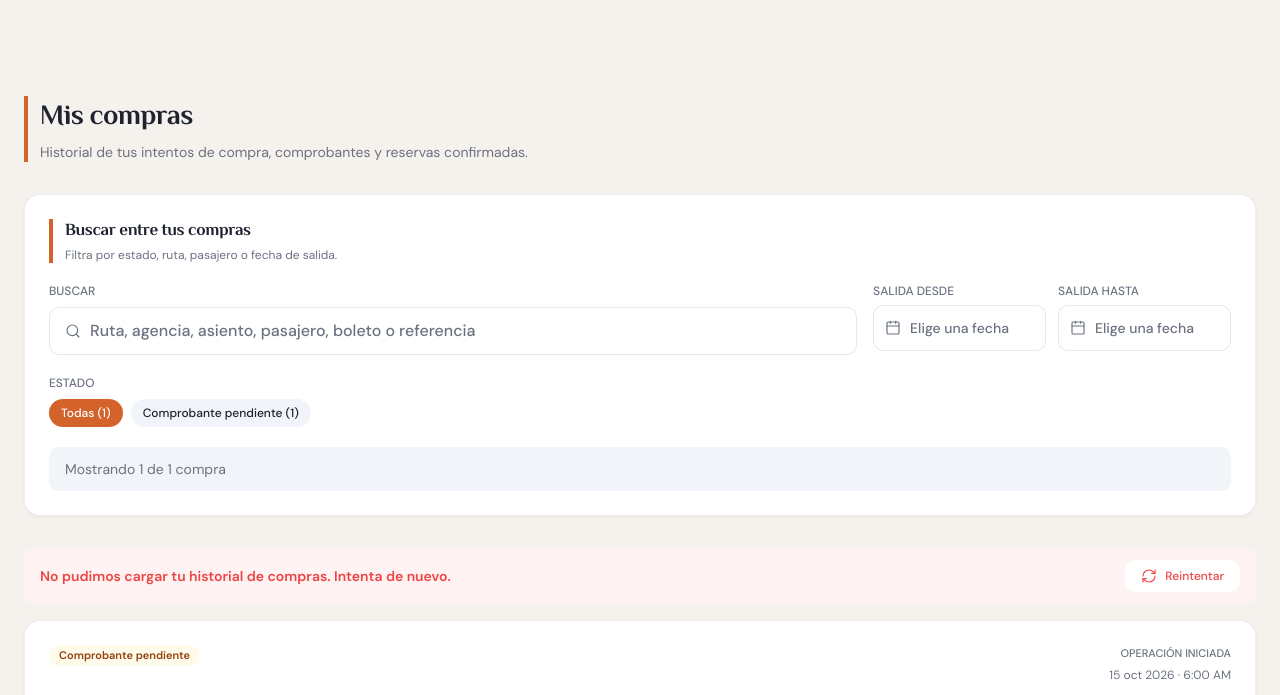
MisComprasPage (RT-02) › un error no-401 en una página posterior conserva lo traído y permite reintentar
Expected: the message shows "No pudimos cargar tu historial de compras. Intenta de nuevo.", [40,567,451,585]
Click the button "Reintentar" at (1183, 576), box [1125,560,1240,592]
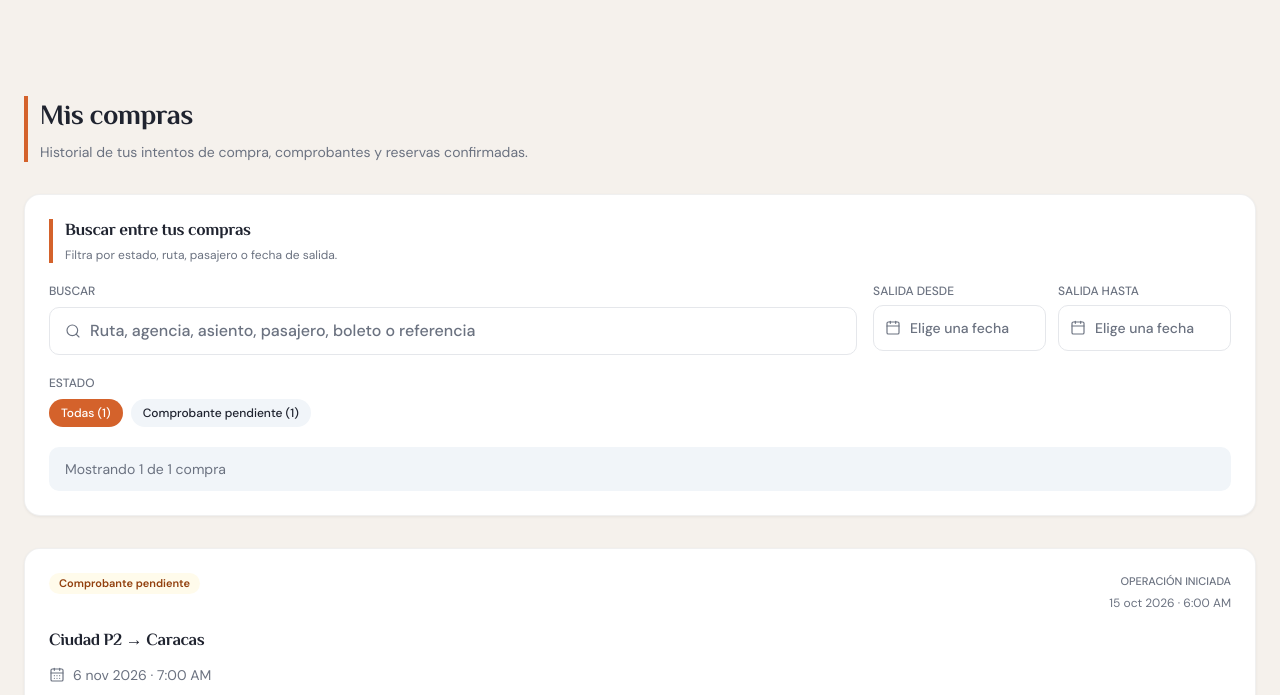
Expected: the heading "Ciudad P2 → Caracas" is shown, [49,628,204,654]
Expected: the message "No pudimos cargar tu historial de compras. Intenta de nuevo. Reintentar" is gone
